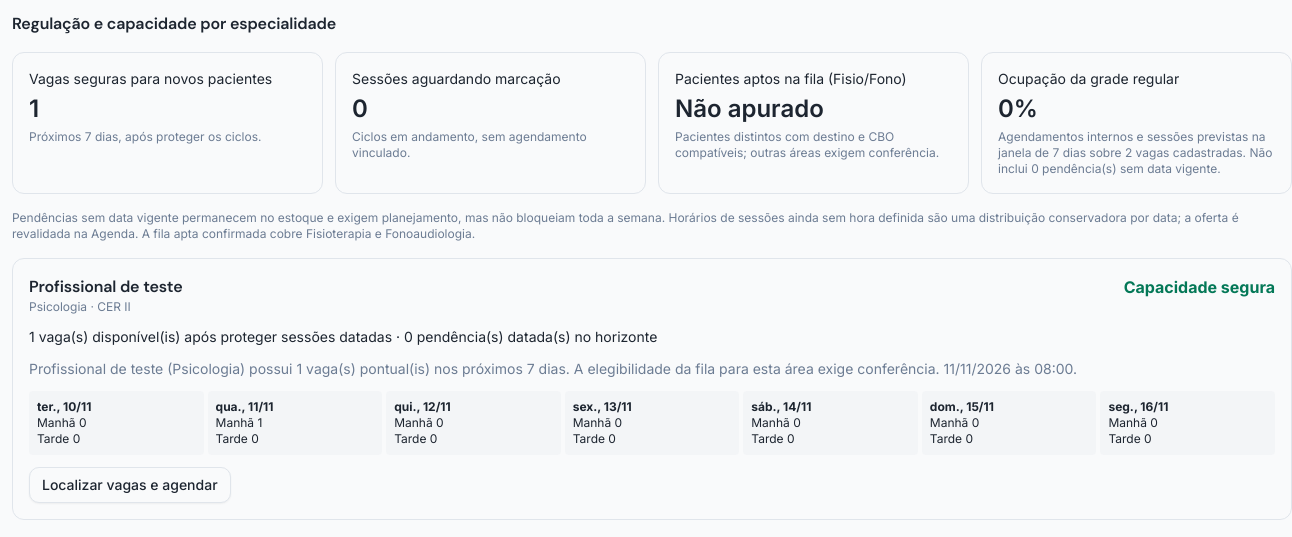
Test: cockpit de regulação e navegação oficial › abre a Agenda manual para Psicóloga sem fila automática
This screenshot has width=1292, height=537.
Click the button "Localizar vagas e agendar": x=130, y=485 [29,467,231,503]
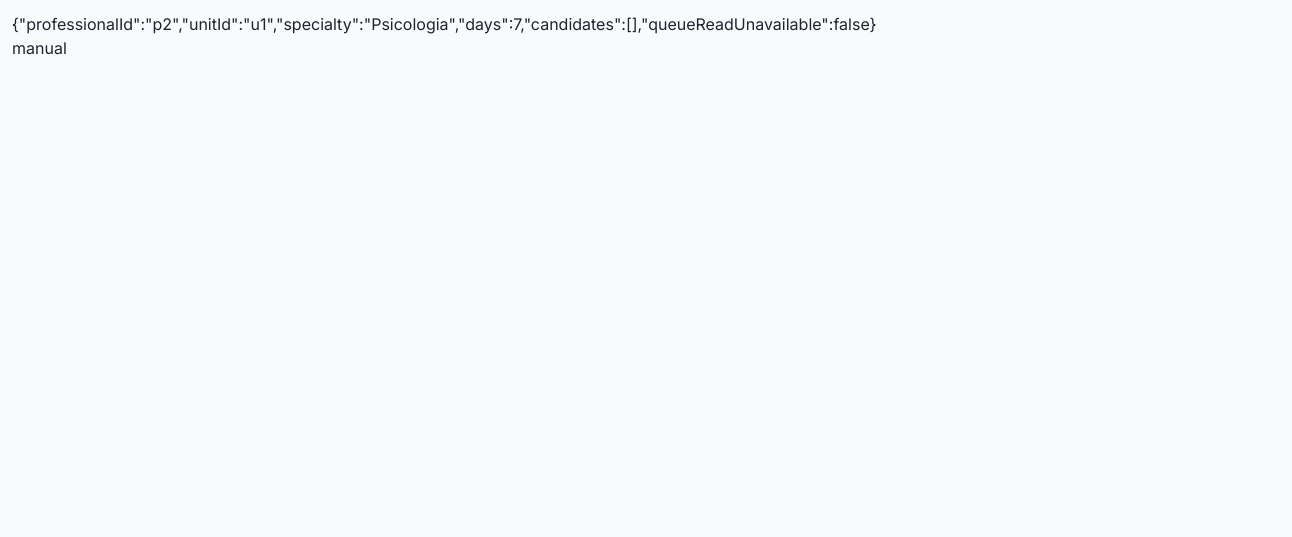
expect the text with test id "mode" reads "manual": met, box [12,38,67,58]
